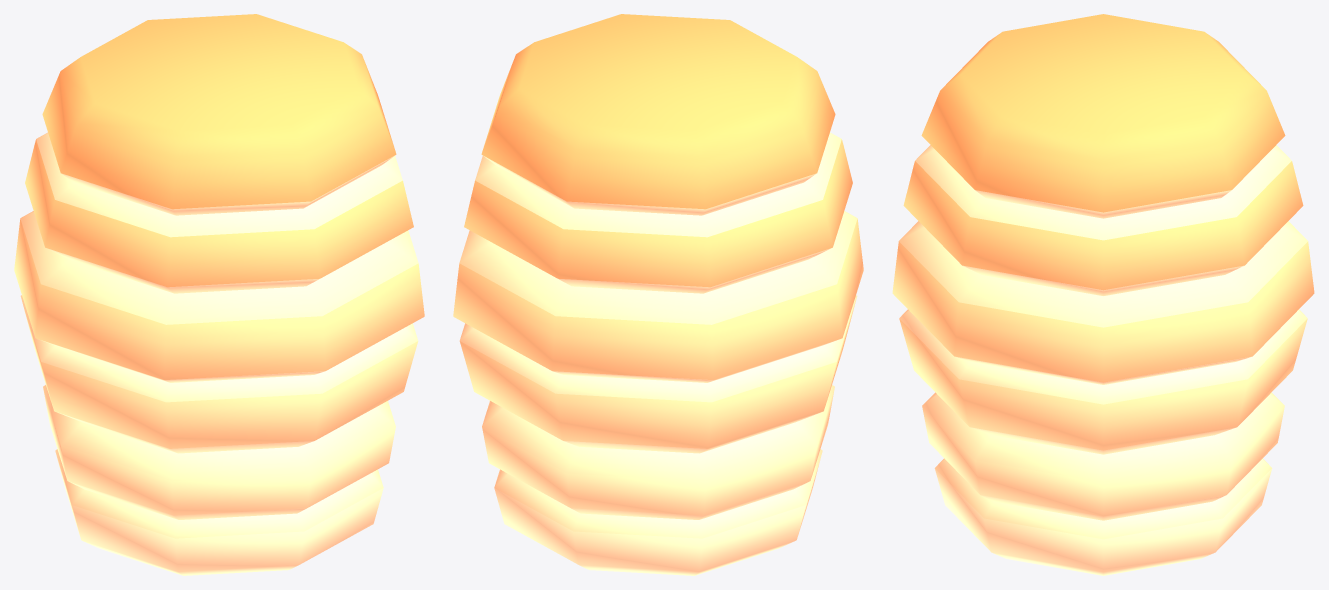
File: wood_grip_104_004.glb
3 renders of one model, left to right at view 1: azimuth 30°, elevation 25°; view 2: azimuth 150°, elevation 25°; view 3: azimuth 270°, elevation 25°, orthographic.
Parts seen in each view (by area): view 1: wood_grip_104.004; view 2: wood_grip_104.004; view 3: wood_grip_104.004.
Part boxes in pixels (left/top/right/bottom): wood_grip_104.004: left=14, top=14, right=424, bottom=575; wood_grip_104.004: left=453, top=14, right=863, bottom=575; wood_grip_104.004: left=892, top=14, right=1314, bottom=575.
Size of the model in its own units: 2.58 by 3 by 2.58.
1 material, 1 textured.
